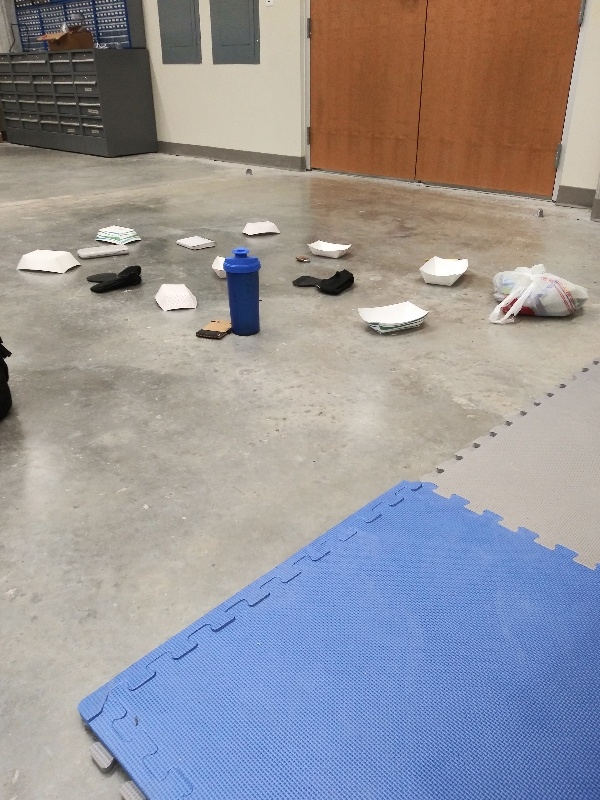plate: (352, 297, 433, 338), (11, 244, 85, 281), (414, 250, 475, 287), (152, 281, 201, 315), (94, 219, 143, 248), (305, 235, 357, 261), (237, 216, 281, 239), (209, 251, 228, 282)
